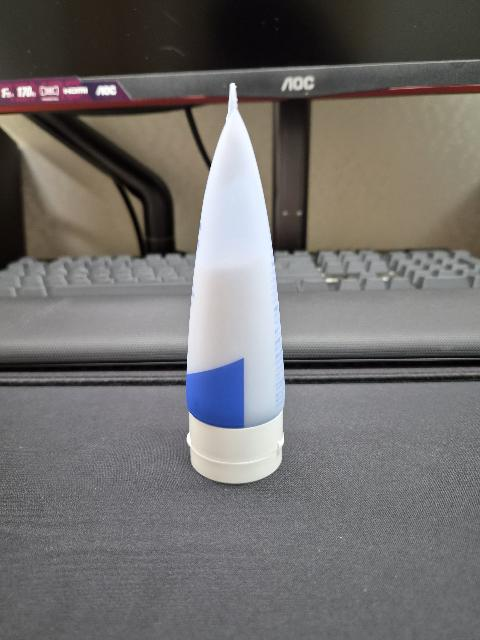handcream: (186, 83, 285, 484)
